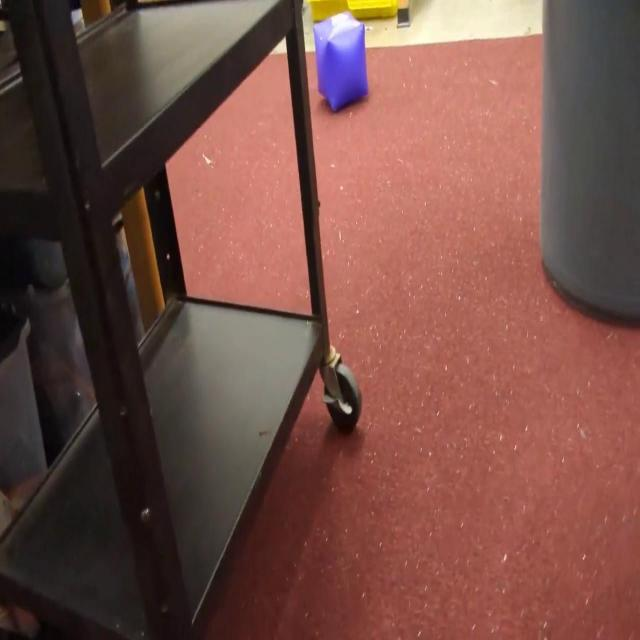frc_cube: (313, 11, 367, 111)
